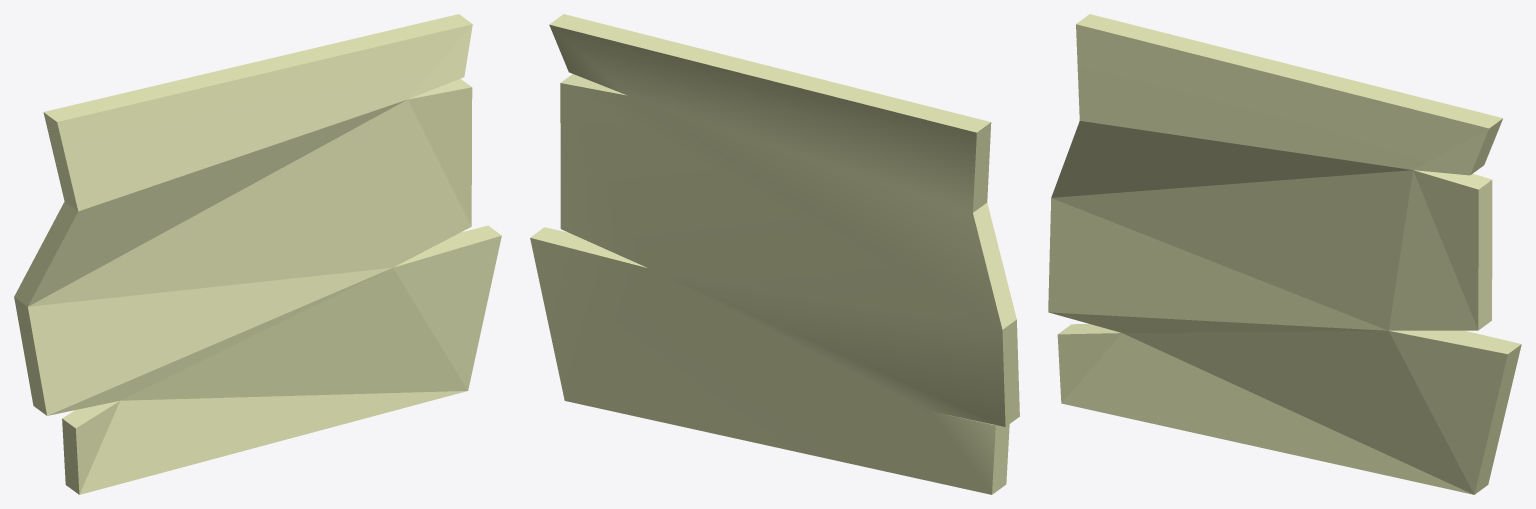
3 renders of one model, left to right at view 1: azimuth 30°, elevation 25°; view 2: azimuth 150°, elevation 25°; view 3: azimuth 330°, elevation 25°, orthographic. The views are drawn at different scales.
Parts seen in each view (by area): view 1: Object21; view 2: Object21; view 3: Object21.
Boxes of the visible parts, x1,y1,x2,y2 form: Object21: (14, 14, 501, 494); Object21: (530, 14, 1019, 494); Object21: (1048, 14, 1521, 494).
Size of the model in its own units: 52243 by 38926 by 6758.
